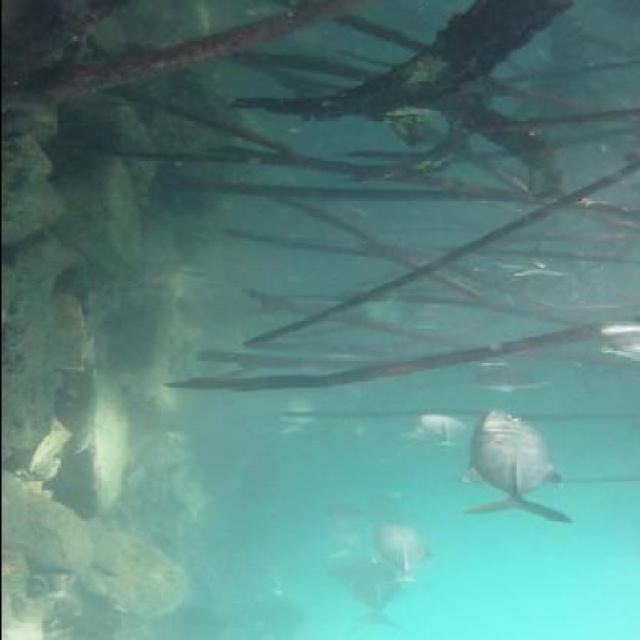Caranx_sexfasciatus_juvenile: (458, 402, 582, 527), (347, 565, 416, 632), (369, 524, 437, 587), (349, 286, 428, 336), (580, 311, 640, 375), (464, 356, 556, 395), (266, 391, 337, 438), (308, 503, 366, 559), (481, 246, 570, 282), (400, 409, 463, 451), (359, 488, 416, 526)
